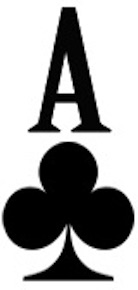AceOfClubs: (1, 1, 138, 285)
